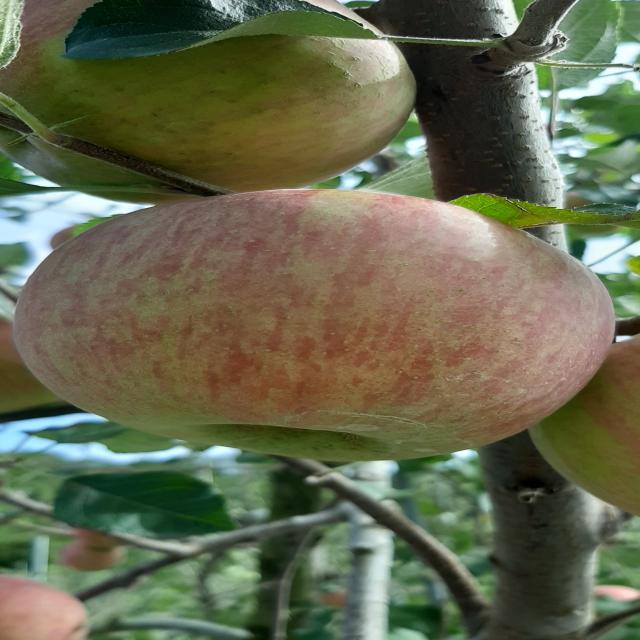fresh: (16, 178, 626, 469)
